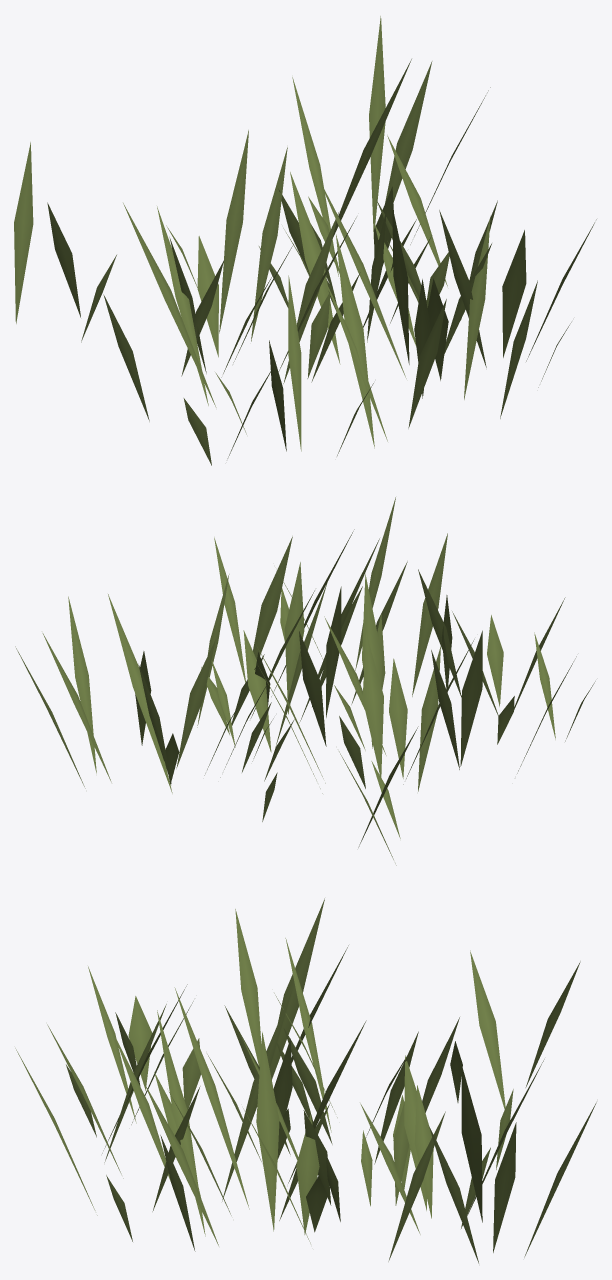
File: SM_Grass.fbx
The picture shows the model from 3 angles, top to bottom: view 1: azimuth 30°, elevation 25°; view 2: azimuth 150°, elevation 25°; view 3: azimuth 270°, elevation 25°; orthographic projection. The views are drawn at different scales.
Visible parts, largest first — view 1: SM_Grass; view 2: SM_Grass; view 3: SM_Grass.
Part boxes in pixels (x1,y1,x2,y2): SM_Grass: (14, 16, 596, 465); SM_Grass: (15, 497, 595, 865); SM_Grass: (15, 898, 596, 1263).
Size of the model in its own units: 308 by 326 by 123.
